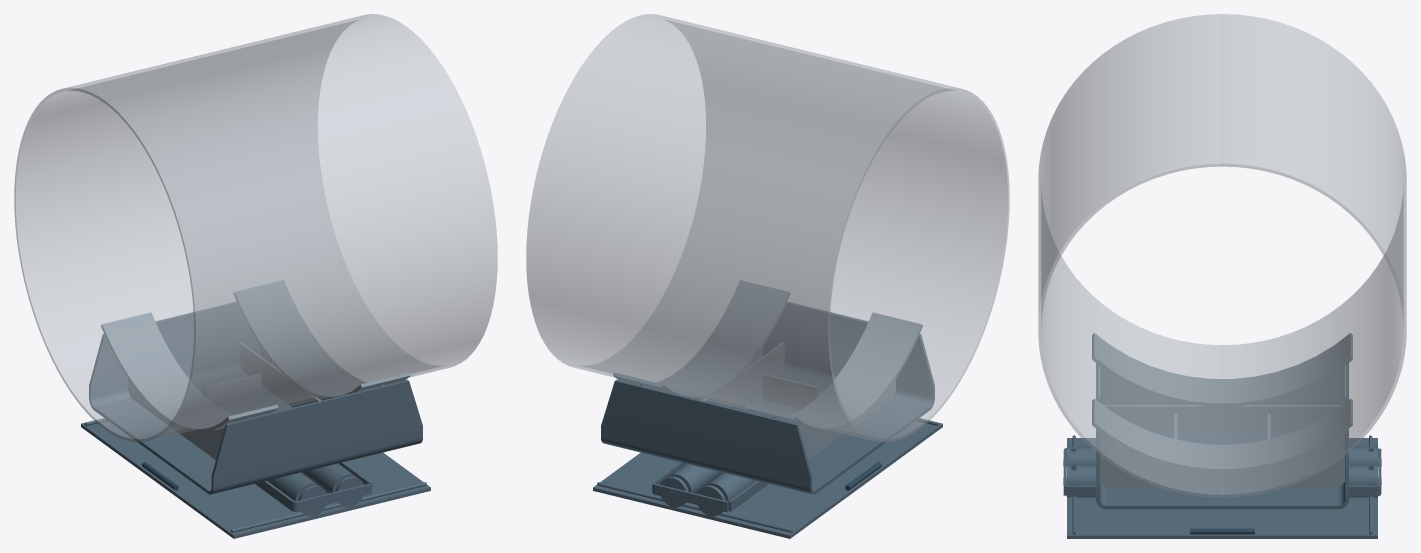
The model's file is TS-630.00.000-07-opora-dn1020-hod800.glb.
The picture shows the model from 3 angles, left to right: view 1: azimuth 30°, elevation 25°; view 2: azimuth 150°, elevation 25°; view 3: azimuth 270°, elevation 25°; orthographic projection.
Parts seen in each view (by area): view 1: truba, o624_skoba_9, plita_osnovanie_0, o624_podushka_14, o624_podushka_15, o624_rebro4_13, rebro630_16, obojma_ugolnik_7, obojma_katok_5, obojma_katok_6, o624_rebro3_10, plita_napravlyayushchaya_3; view 2: truba, o624_skoba_9, plita_osnovanie_0, o624_podushka_14, o624_podushka_15, o624_rebro4_13, rebro630_17, obojma_katok_5, obojma_katok_6, o624_rebro3_10, obojma_ugolnik_8, plita_napravlyayushchaya_1; view 3: truba, plita_osnovanie_0, o624_skoba_9, o624_podushka_15, o624_podushka_14, o624_rebro3_11, o624_rebro4_12, o624_rebro3_10, obojma_katok_5, obojma_katok_6, obojma_ugolnik_8, plita_upor_2.
Part boxes in pixels (x1,y1,x2,y2): truba: [14, 14, 497, 442]; o624_skoba_9: [89, 302, 422, 494]; plita_osnovanie_0: [81, 421, 430, 538]; o624_podushka_14: [101, 312, 278, 432]; o624_podushka_15: [234, 280, 410, 399]; o624_rebro4_13: [239, 342, 321, 407]; rebro630_16: [205, 374, 260, 409]; obojma_ugolnik_7: [255, 481, 371, 511]; obojma_katok_5: [301, 463, 363, 507]; obojma_katok_6: [267, 472, 326, 516]; o624_rebro3_10: [128, 379, 250, 459]; plita_napravlyayushchaya_3: [231, 482, 426, 532]; truba: [526, 14, 1009, 442]; o624_skoba_9: [601, 302, 934, 494]; plita_osnovanie_0: [593, 421, 942, 538]; o624_podushka_14: [745, 312, 922, 432]; o624_podushka_15: [613, 280, 789, 399]; o624_rebro4_13: [702, 342, 784, 407]; rebro630_17: [763, 374, 818, 409]; obojma_katok_5: [660, 463, 722, 507]; obojma_katok_6: [697, 472, 756, 516]; o624_rebro3_10: [773, 379, 895, 459]; obojma_ugolnik_8: [652, 462, 728, 511]; plita_napravlyayushchaya_1: [597, 482, 792, 532]; truba: [1038, 14, 1406, 497]; plita_osnovanie_0: [1067, 438, 1377, 538]; o624_skoba_9: [1096, 363, 1348, 509]; o624_podushka_15: [1092, 398, 1352, 472]; o624_podushka_14: [1092, 333, 1352, 406]; o624_rebro3_11: [1100, 432, 1344, 487]; o624_rebro4_12: [1103, 405, 1341, 432]; o624_rebro3_10: [1100, 366, 1344, 404]; obojma_katok_5: [1063, 465, 1381, 497]; obojma_katok_6: [1063, 446, 1381, 469]; obojma_ugolnik_8: [1066, 448, 1381, 496]; plita_upor_2: [1190, 528, 1254, 534].
Size of the model in its own units: 980 by 1225 by 1020.
